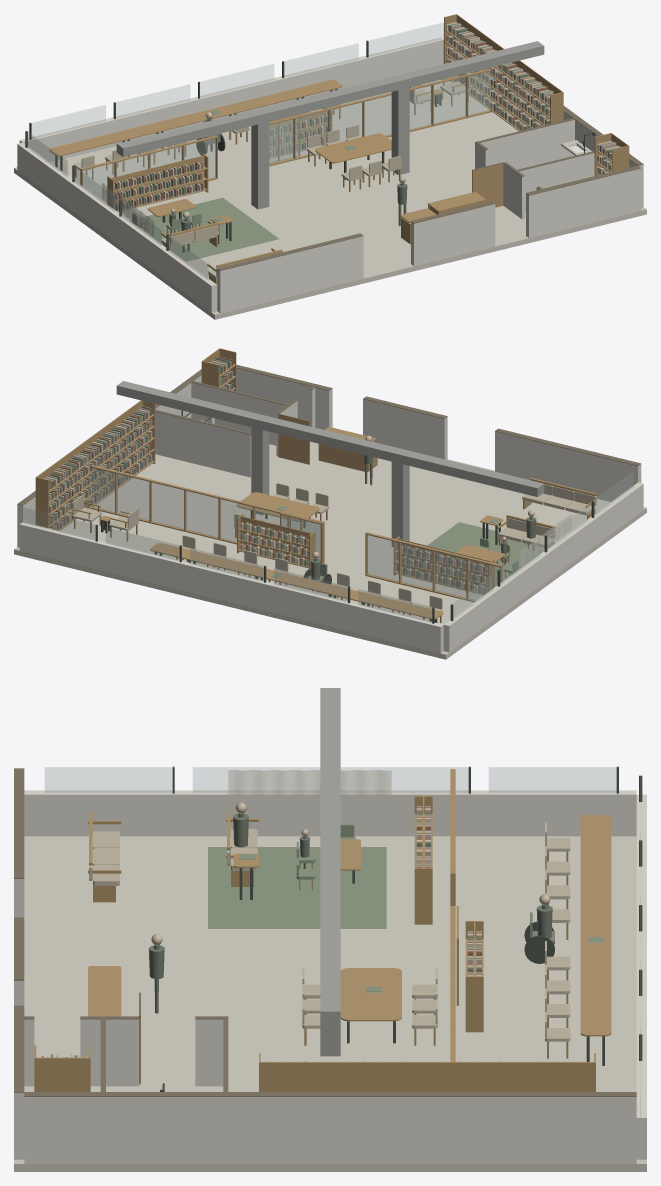
Rendered from community-reading-room-cutaway.glb.
The picture shows the model from 3 angles, top to bottom: view 1: azimuth 30°, elevation 25°; view 2: azimuth 150°, elevation 25°; view 3: azimuth 270°, elevation 25°; orthographic projection. The views are drawn at different scales.
Parts seen in each view (by area): view 1: Floor finish panel 0, Floor finish panel 3, Acoustic boundary glazing - product to be verified (×3), 北侧窗下墙, 保留框架梁, 西侧窗下墙, Floor finish panel 1, 南侧保留墙, North glazing (×5), 南侧服务墙, Tabletop (×3), 入口与次出口间墙 (+15 smaller); view 2: 北侧窗下墙, Acoustic boundary glazing - product to be verified (×3), Floor finish panel 3, Floor finish panel 0, Floor finish panel 1, 保留框架梁, 西侧窗下墙, North glazing (×5), 南侧保留墙, Tabletop (×3), 湿区北隔墙, 入口与次出口间墙 (+15 smaller); view 3: Floor finish panel 0, 东侧外墙, Floor finish panel 1, 西侧窗下墙, Floor finish panel 3, Shelf spine (×2), Flush floor finish, Tabletop (×2), West glazing (×4), 保留框架梁, Section cap (×4), Floor slab (+13 smaller).
Part boxes in pixels (x1,y1,x2,y2): Floor finish panel 0: [14, 79, 512, 228]; Floor finish panel 3: [223, 127, 518, 238]; Acoustic boundary glazing - product to be verified (×3): [83, 71, 494, 203]; 北侧窗下墙: [19, 37, 443, 162]; 保留框架梁: [116, 41, 544, 157]; 西侧窗下墙: [17, 142, 217, 312]; Floor finish panel 1: [153, 192, 646, 314]; 南侧保留墙: [217, 236, 363, 313]; North glazing (×5): [32, 23, 442, 138]; 南侧服务墙: [526, 168, 641, 238]; Tabletop (×3): [49, 79, 391, 216]; 入口与次出口间墙: [411, 204, 495, 266]; 北侧窗下墙: [19, 522, 443, 653]; Acoustic boundary glazing - product to be verified (×3): [88, 468, 499, 600]; Floor finish panel 3: [113, 454, 458, 560]; Floor finish panel 0: [14, 493, 527, 654]; Floor finish panel 1: [269, 441, 646, 552]; 保留框架梁: [116, 381, 544, 496]; 西侧窗下墙: [443, 482, 643, 652]; North glazing (×5): [21, 507, 432, 622]; 南侧保留墙: [495, 431, 641, 501]; Tabletop (×3): [150, 492, 504, 619]; 湿区北隔墙: [155, 411, 251, 477]; 入口与次出口间墙: [363, 399, 447, 459]; Floor finish panel 0: [386, 836, 646, 1164]; 东侧外墙: [24, 1097, 636, 1163]; Floor finish panel 1: [14, 836, 207, 1164]; 西侧窗下墙: [24, 790, 636, 836]; Floor finish panel 3: [208, 929, 386, 1164]; Shelf spine (×2): [34, 1057, 595, 1091]; Flush floor finish: [208, 847, 386, 928]; Tabletop (×2): [340, 815, 611, 1036]; West glazing (×4): [45, 767, 616, 792]; 保留框架梁: [320, 688, 340, 1025]; Section cap (×4): [14, 768, 636, 1096]; Floor slab: [14, 1164, 646, 1171].
Bounding box in the file's own units: 15.4 × 3.37 × 12.4.
